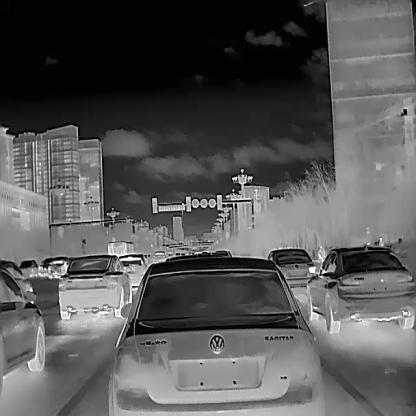car: (107, 255, 325, 416), (303, 245, 415, 333), (0, 265, 44, 396), (58, 254, 132, 319), (267, 247, 315, 297), (118, 253, 147, 290), (106, 240, 134, 259), (48, 256, 66, 279), (18, 259, 38, 276), (152, 250, 165, 265)
